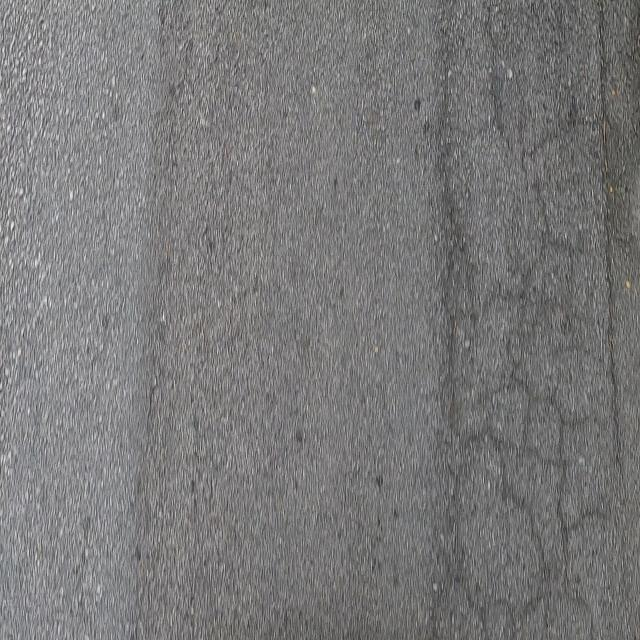Retak-Buaya: (443, 107, 626, 632)
